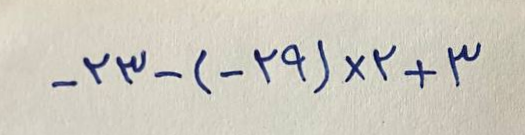character: (448, 44, 483, 86), (117, 50, 147, 86), (280, 44, 307, 83), (313, 40, 330, 93), (84, 53, 112, 85), (405, 59, 437, 86), (193, 52, 213, 95), (371, 47, 397, 80), (256, 46, 278, 83), (344, 53, 368, 83), (154, 67, 182, 80), (49, 78, 79, 90), (220, 69, 246, 80)
